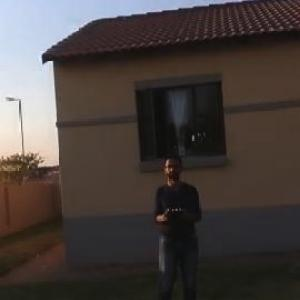follow: (149, 148, 210, 299)
